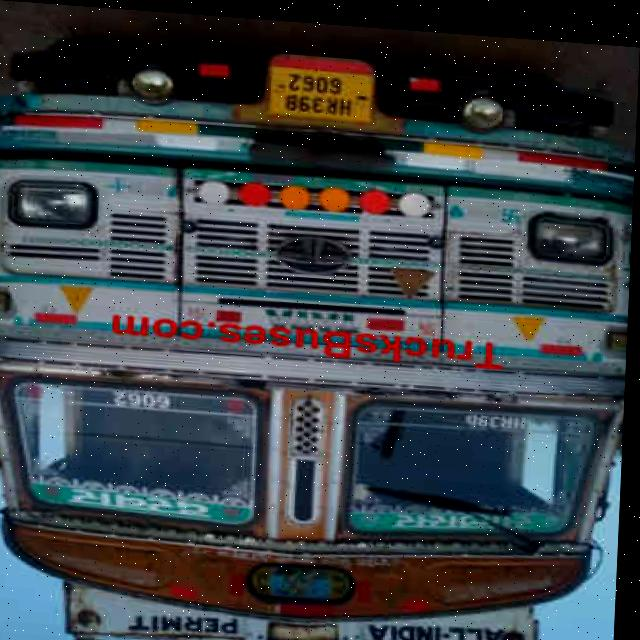plate: (262, 44, 379, 118)
